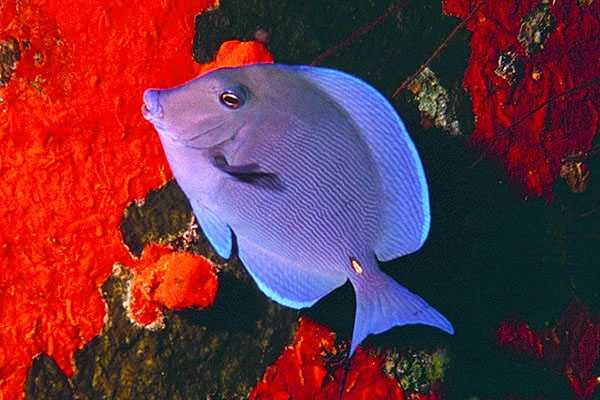Acanthurus_coeruleus: (140, 61, 459, 347)
